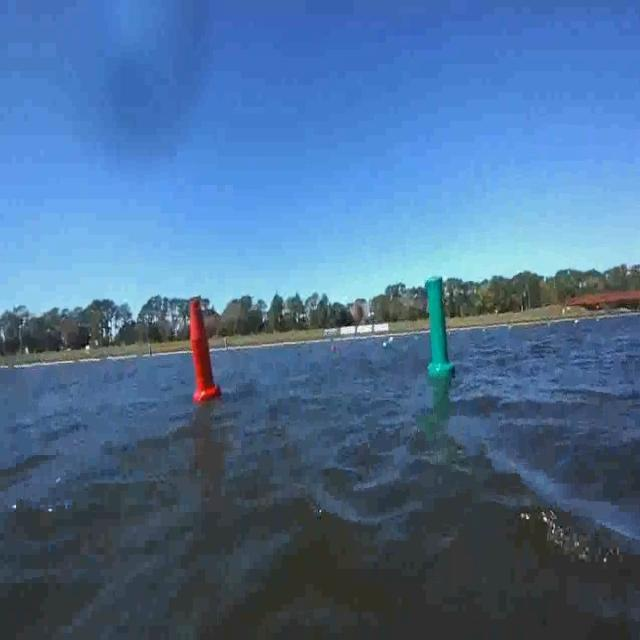green-column-buoy: (424, 275, 454, 380)
red-column-buoy: (186, 296, 219, 403)
